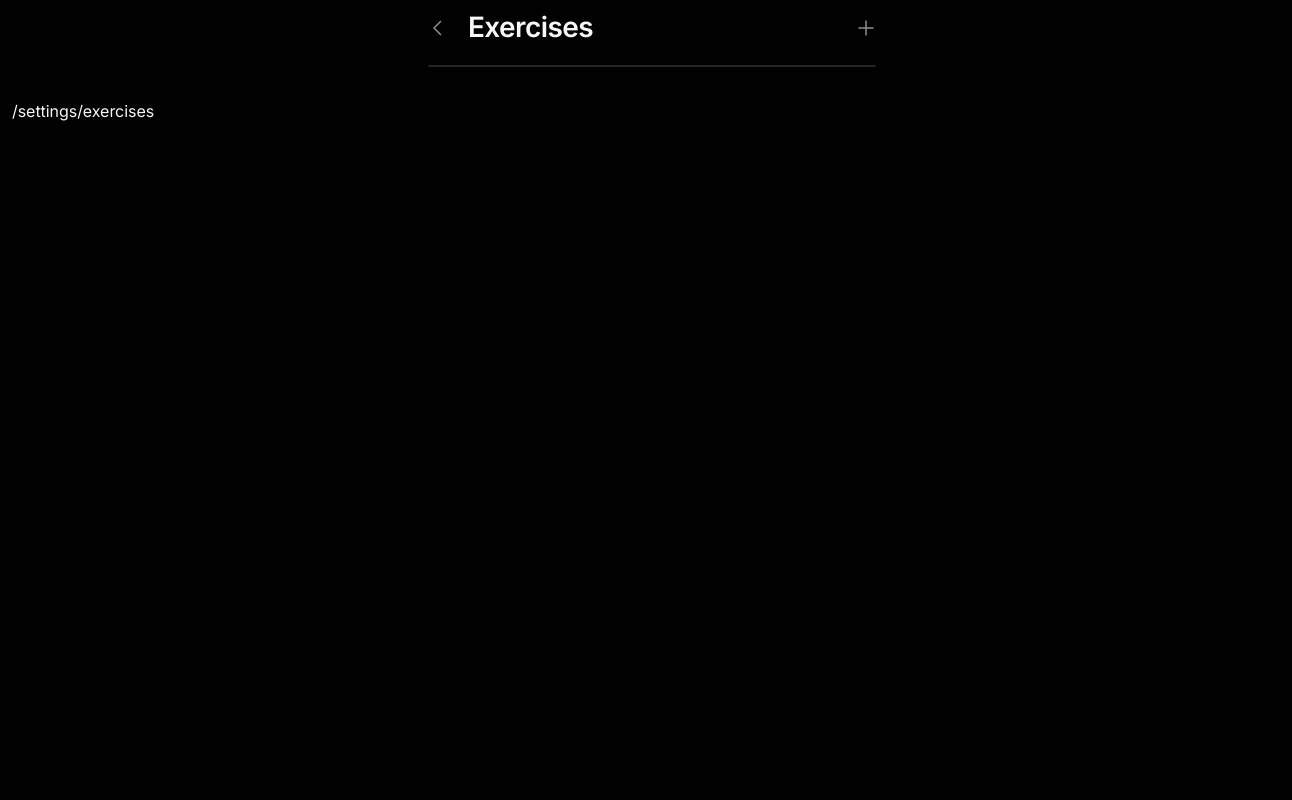
Test case: Exercises list › opens "New exercise" from the top bar
What coordinates should you click on to do the following:
click the button named "New exercise"
I would click on:
 (866, 28)
Its box is [844, 6, 888, 50].
(page scrolled)
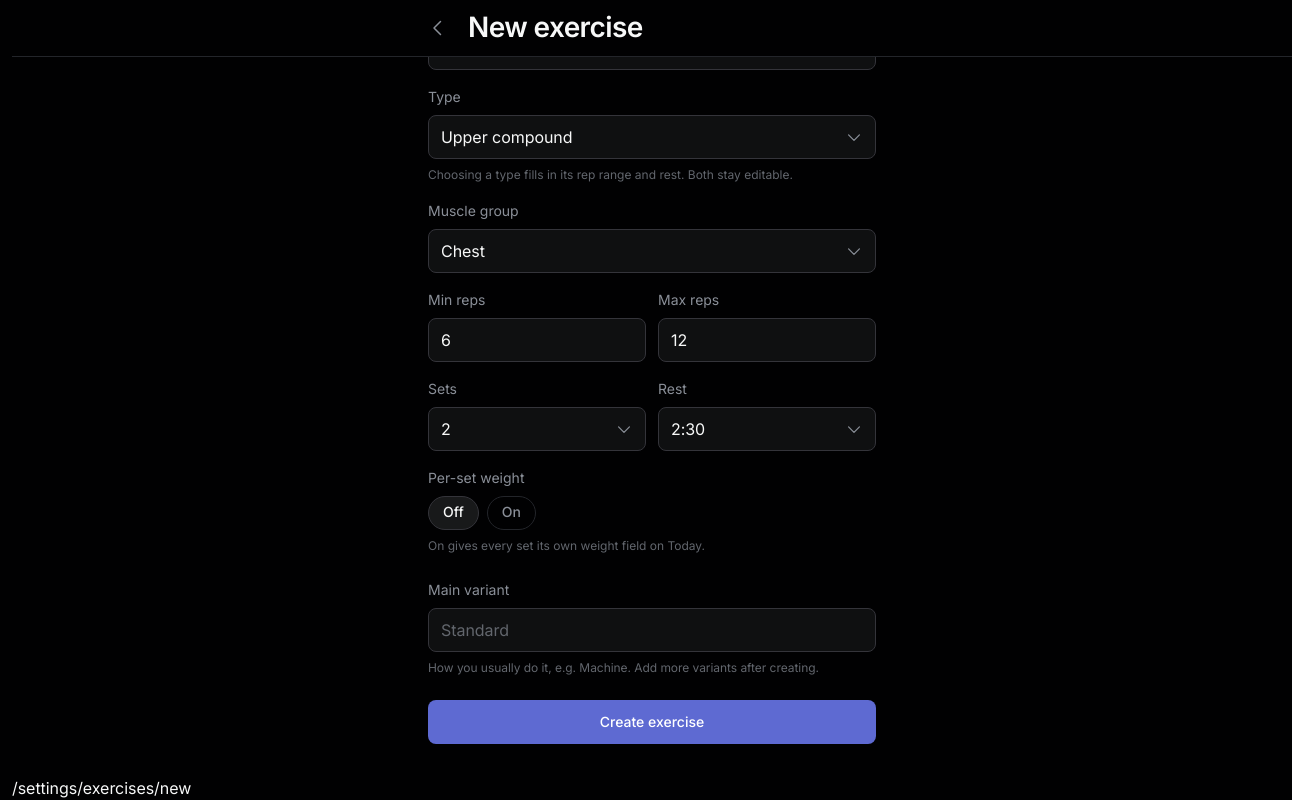
Expected: the text with test id "location" reads "/settings/exercises/new", [12, 778, 191, 798]
